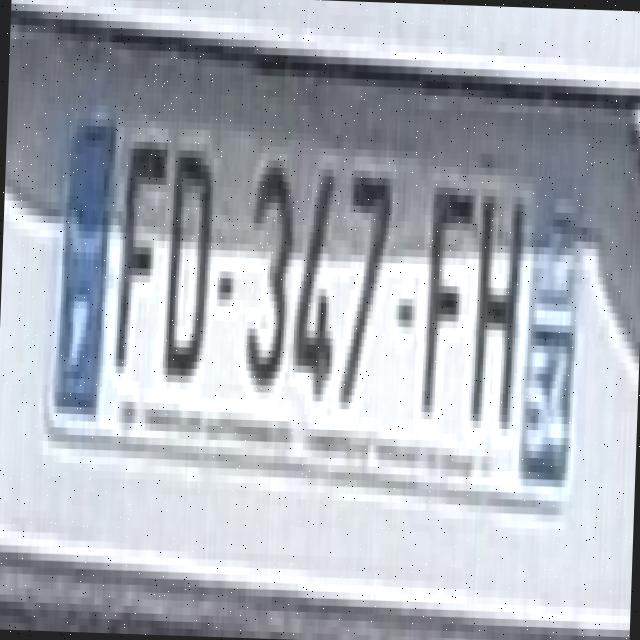Autre: (48, 109, 585, 462)
